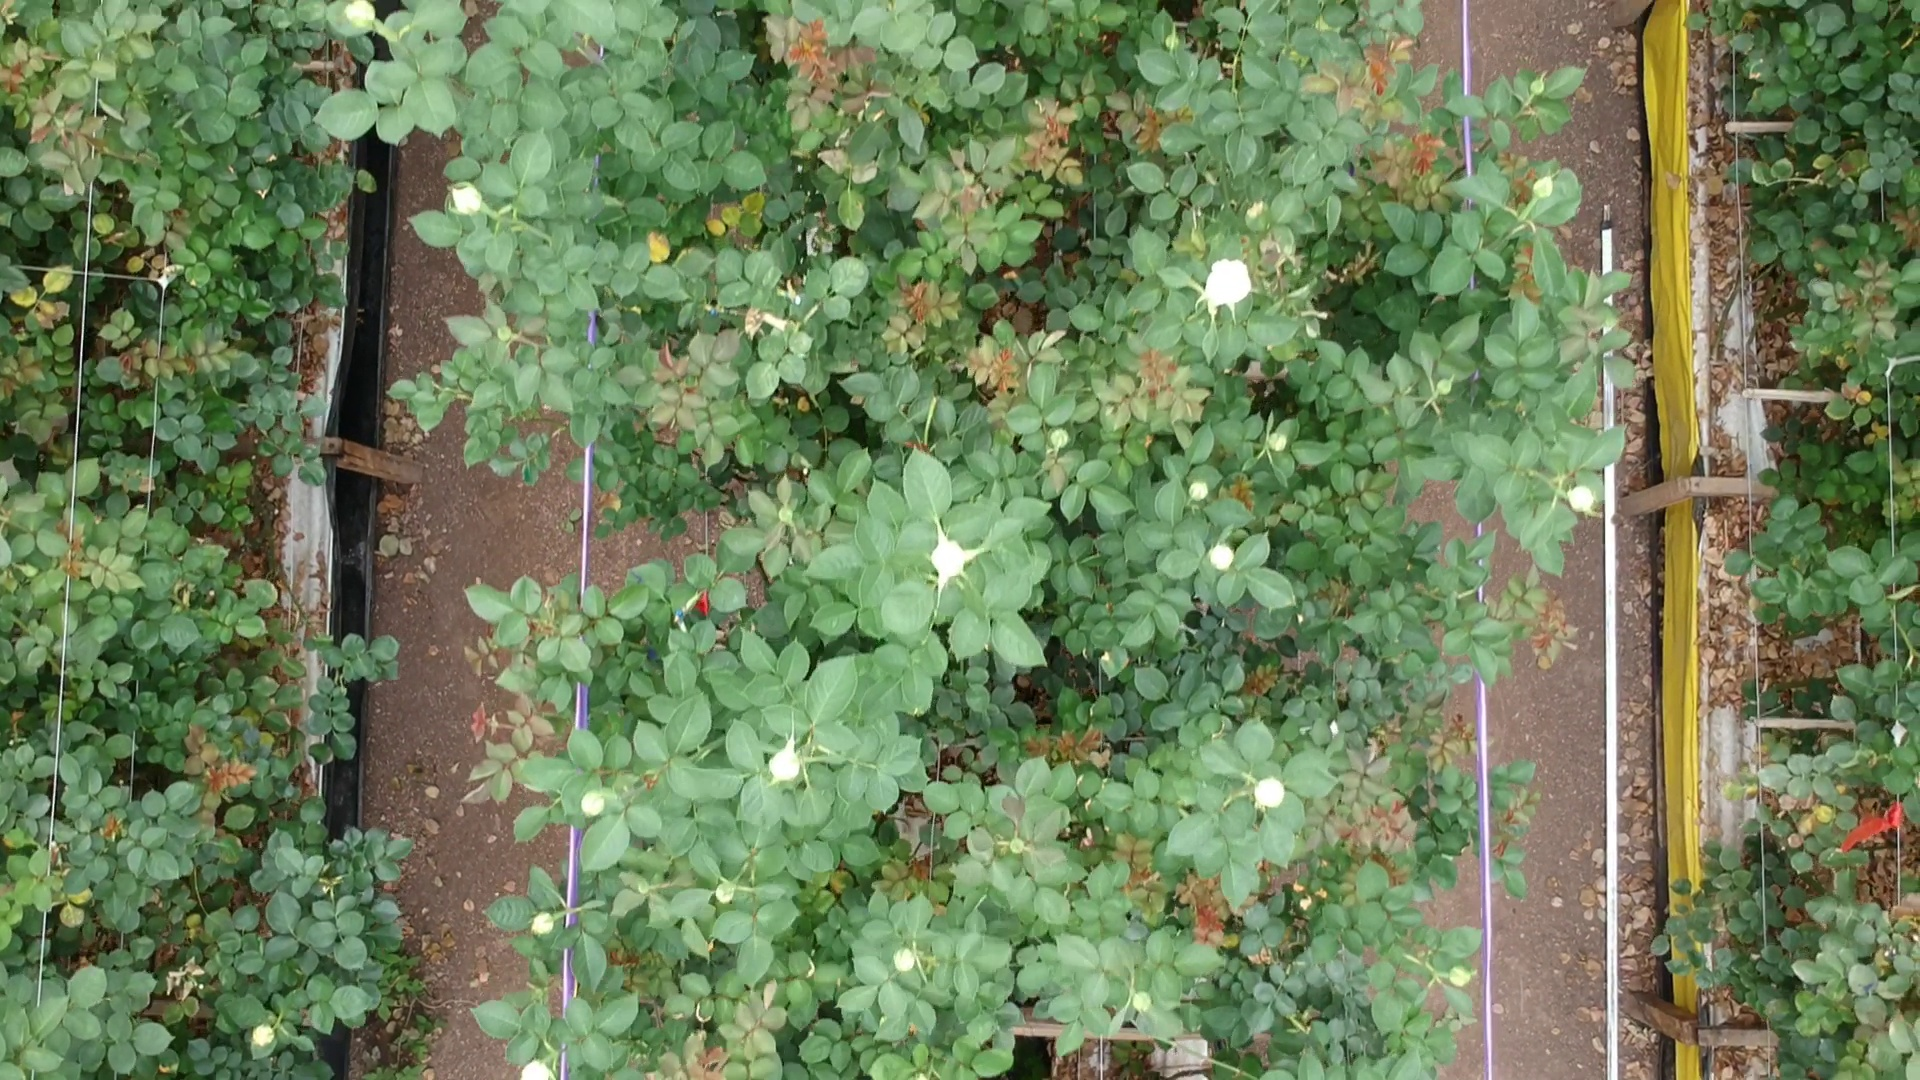P2: (774, 11, 837, 102)
P5: (749, 480, 811, 556), (468, 311, 550, 355)
P5_1: (1501, 142, 1577, 249)
P6: (502, 876, 591, 952), (501, 1030, 605, 1080)
